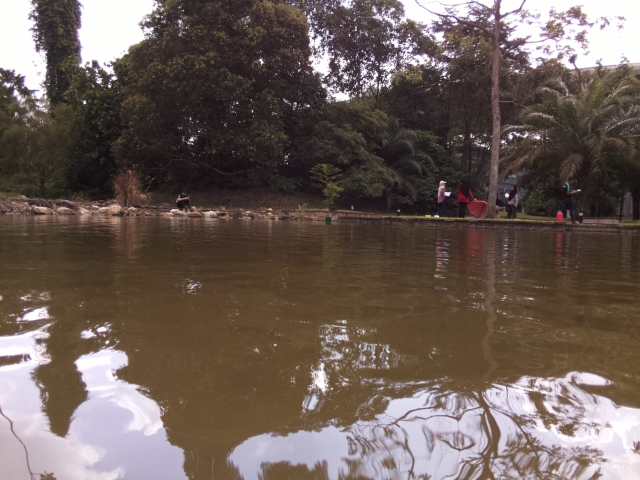obstacle: (325, 216, 331, 223)
